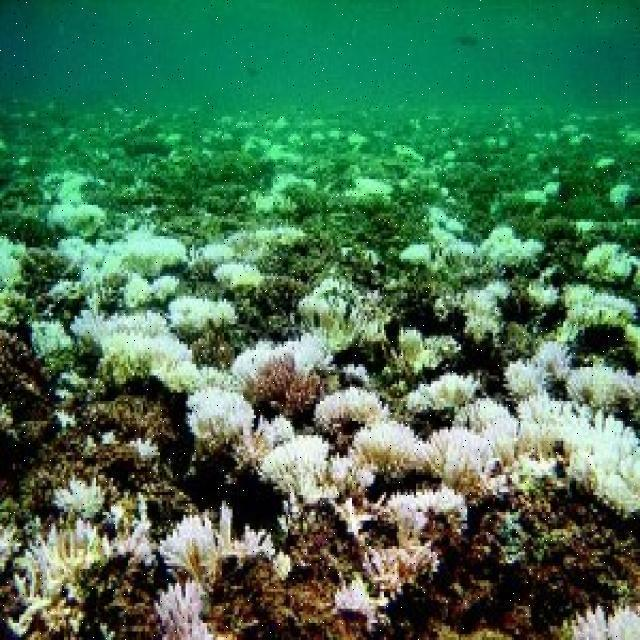Bleached: (263, 419, 501, 494), (515, 397, 640, 502), (91, 307, 199, 388), (10, 523, 90, 618), (63, 240, 187, 295), (171, 525, 222, 640), (89, 498, 156, 569), (205, 231, 292, 284), (415, 230, 550, 263), (564, 286, 640, 340), (302, 292, 369, 343), (391, 496, 473, 537), (192, 396, 255, 448), (52, 172, 100, 240), (564, 601, 640, 640), (581, 238, 640, 281), (370, 544, 440, 580), (516, 339, 559, 395), (253, 172, 310, 214), (56, 472, 98, 525), (458, 288, 501, 337), (316, 391, 382, 421), (344, 586, 387, 627), (2, 237, 25, 294), (262, 144, 306, 171), (344, 174, 390, 199), (525, 176, 560, 208), (137, 436, 161, 462), (609, 182, 630, 208), (56, 413, 76, 430), (104, 429, 118, 446)
Healthy: (483, 520, 640, 591), (102, 389, 180, 487), (231, 567, 343, 635), (1, 323, 44, 472), (302, 201, 405, 260), (151, 163, 254, 207), (102, 570, 155, 640), (559, 152, 605, 220), (265, 362, 313, 414), (464, 152, 494, 218), (565, 187, 606, 216), (128, 131, 166, 158)
